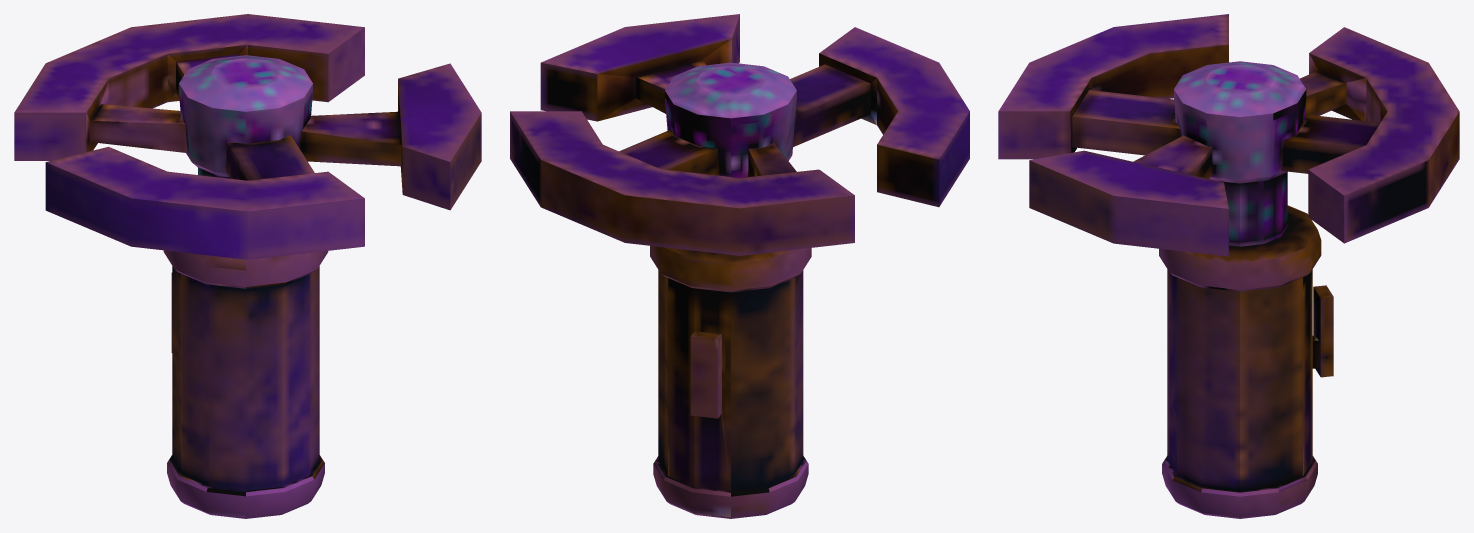
File: Key.FBX
3 renders of one model, left to right at view 1: azimuth 30°, elevation 25°; view 2: azimuth 150°, elevation 25°; view 3: azimuth 270°, elevation 25°, orthographic.
Visible parts, largest first — view 1: Object001; view 2: Object001; view 3: Object001.
Part boxes in pixels (<box>): Object001: <box>14,14,481,518</box>; Object001: <box>510,14,969,518</box>; Object001: <box>998,14,1459,518</box>.
Size of the model in its own units: 15.66 by 15.45 by 15.66.
Materials: 1 (1 with a texture image).
